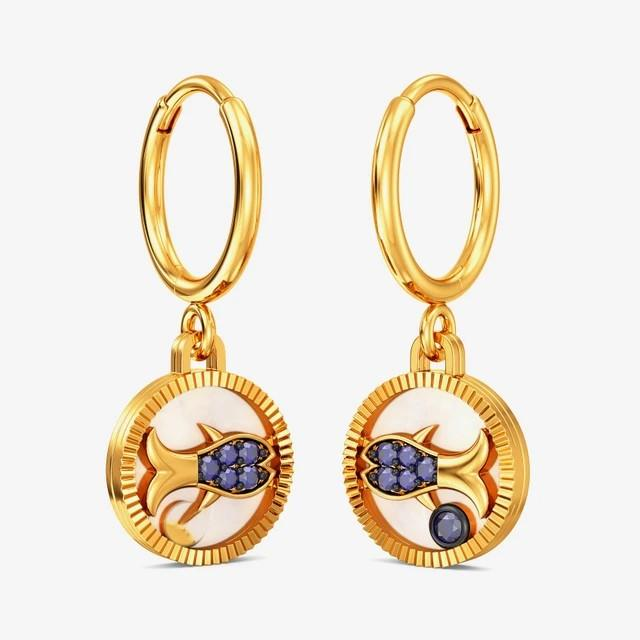missing gem: (163, 503, 208, 546)
